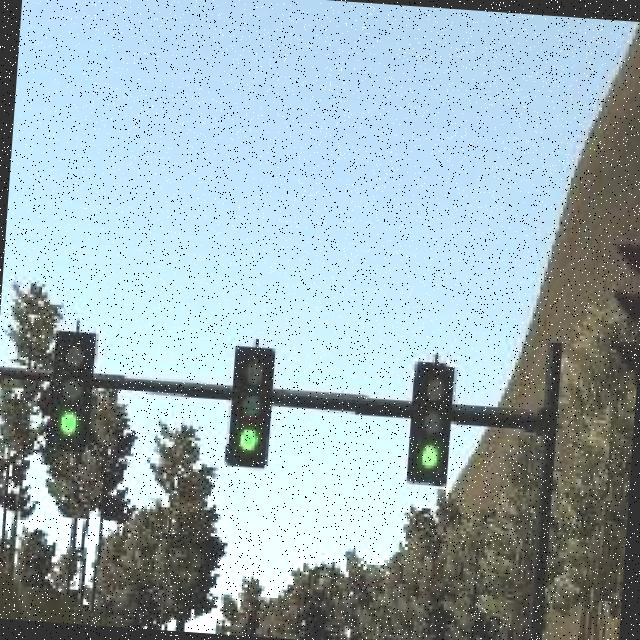Zielone swiatlo: (44, 330, 99, 448), (406, 361, 454, 486), (227, 346, 274, 468)
